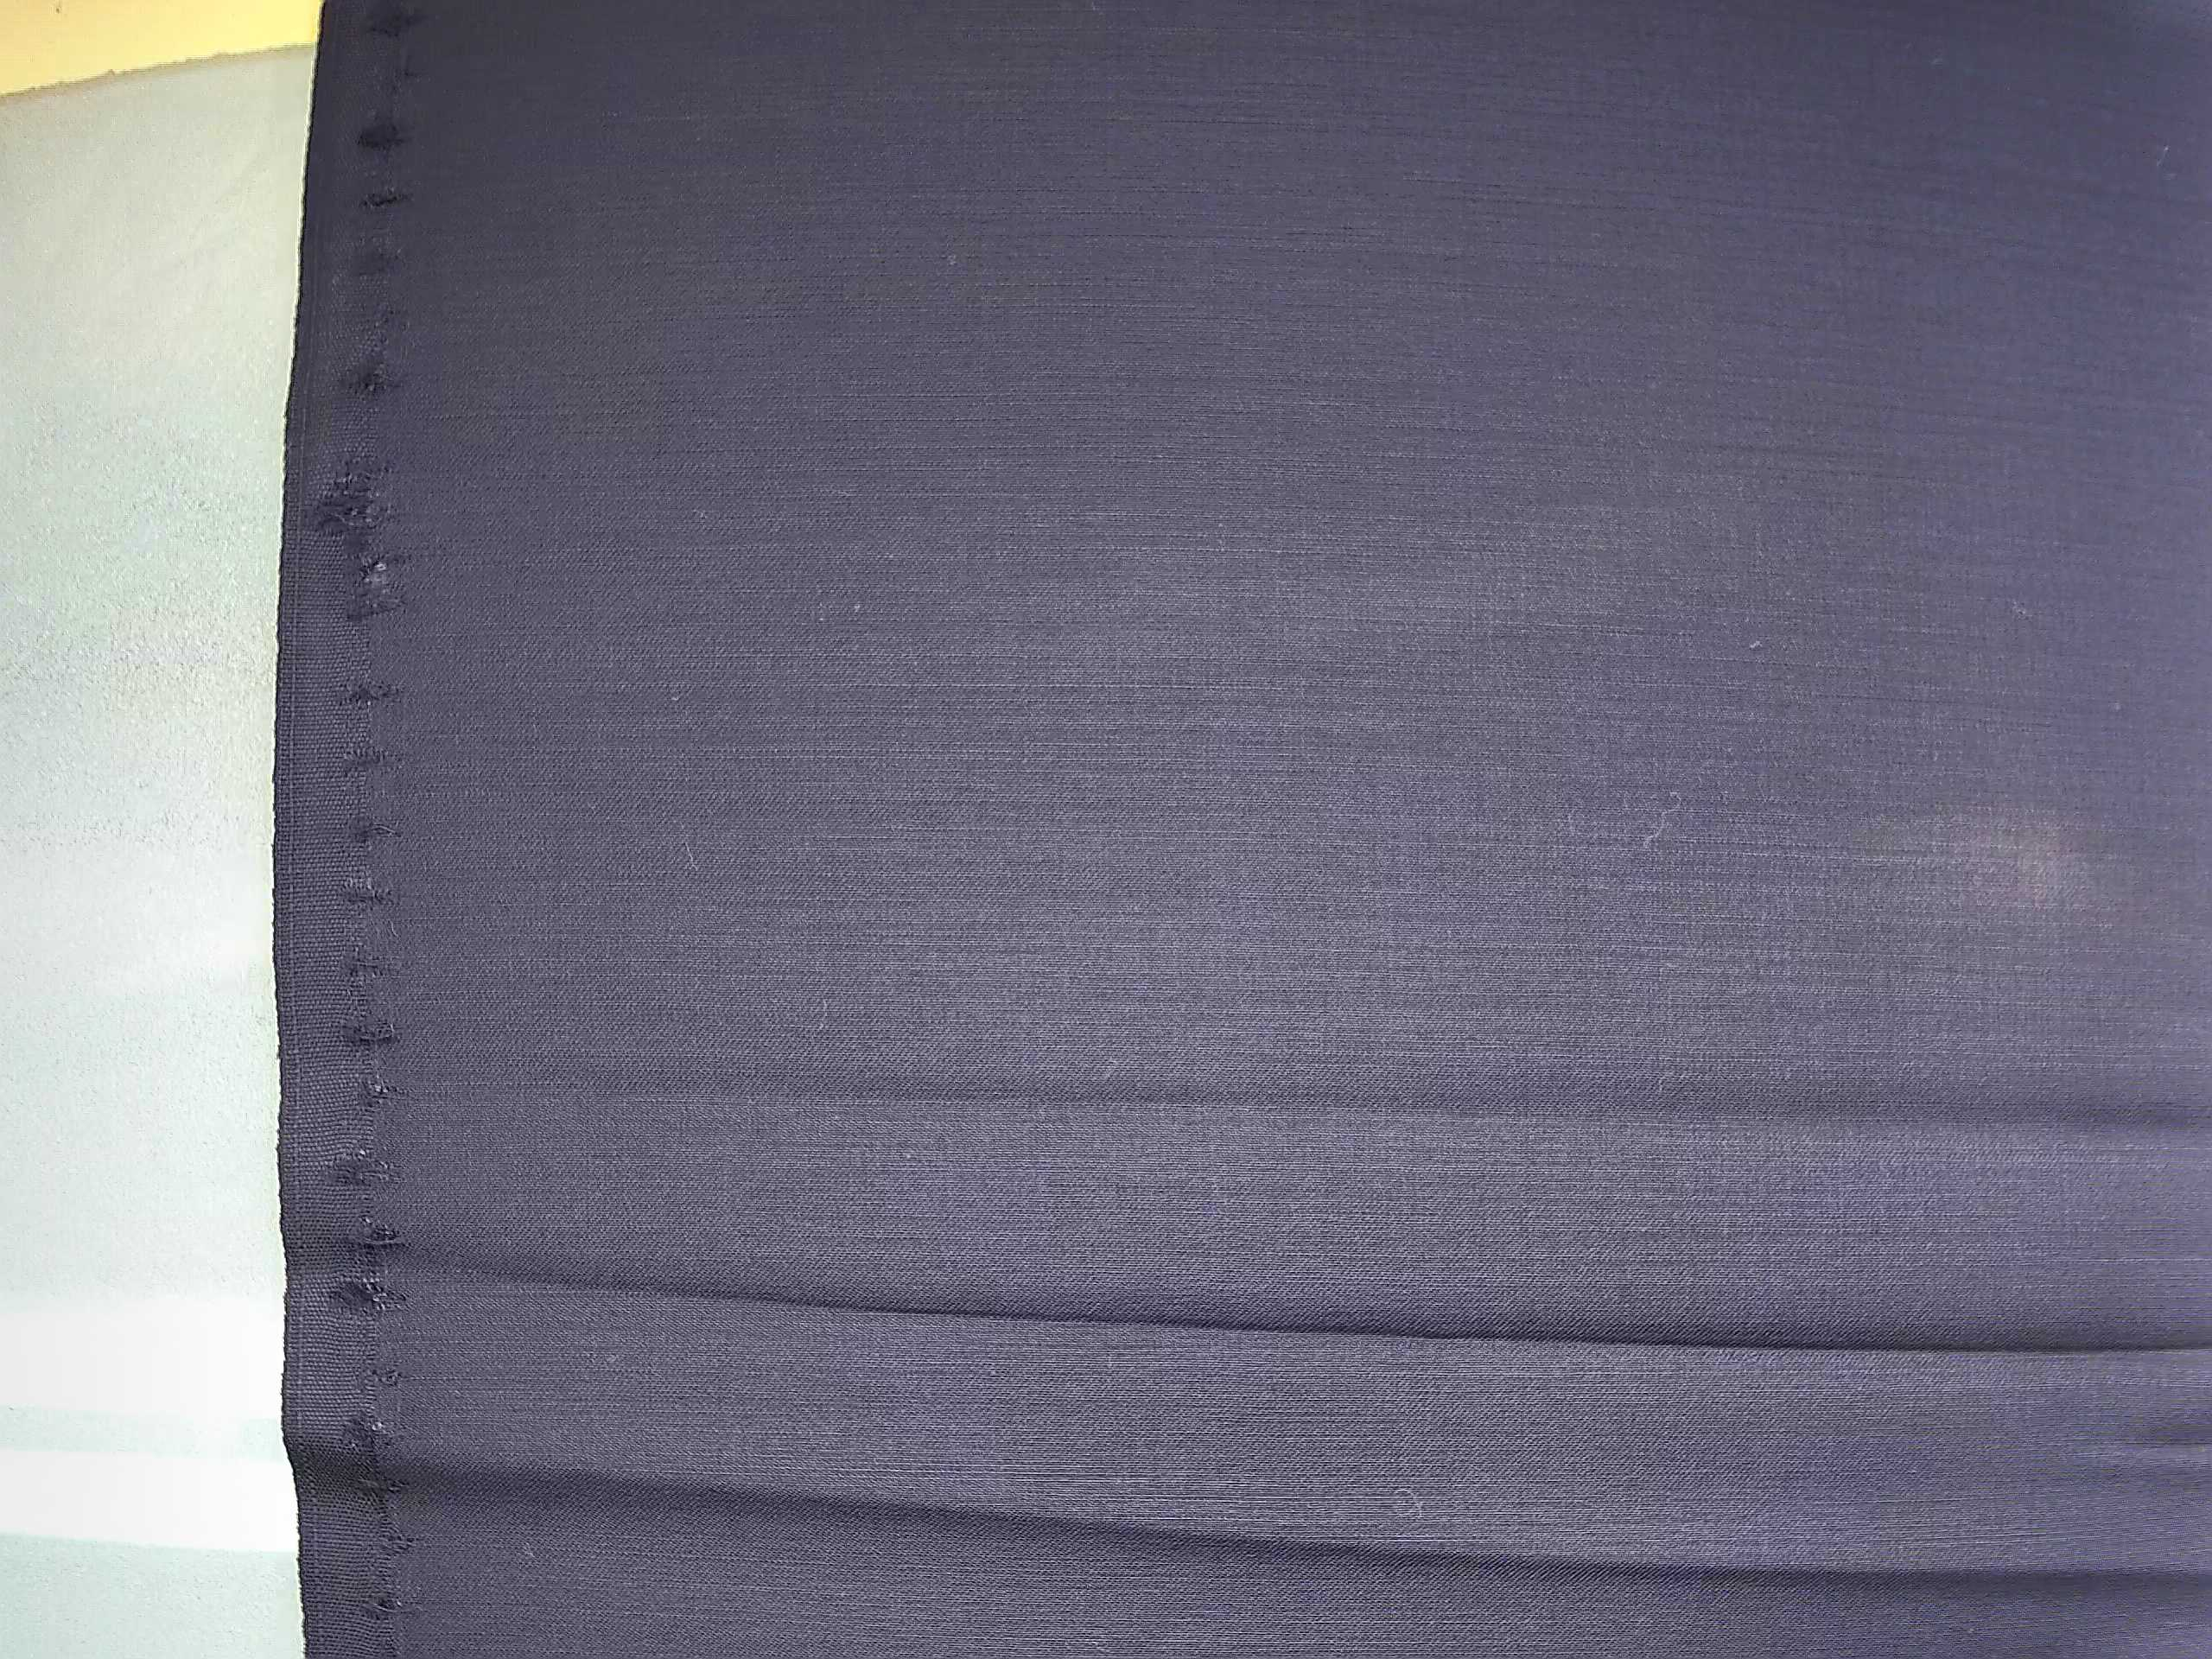puncture-hole: (326, 28, 435, 1640)
